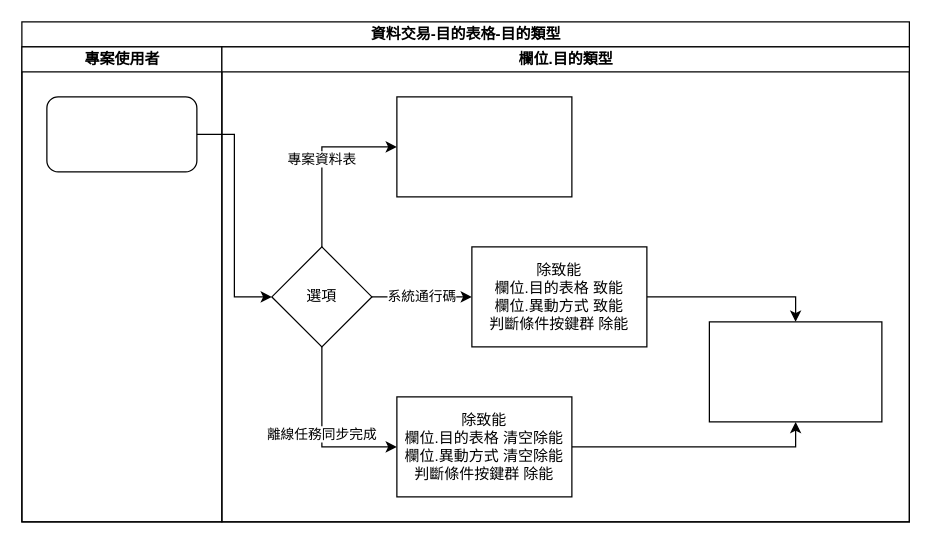
This 931x544 diagram has some shape labels left out. Each missing label, with the centre of its shape:
"切換欄位.目的類型" goes at (121,134).
"清判斷條件所有記錄 並 新增1筆記錄" goes at (795,371).
"除致能 欄位.目的表格 致能 欄位.異動方式 致能 判斷條件按鍵群 致能" goes at (484,146).
